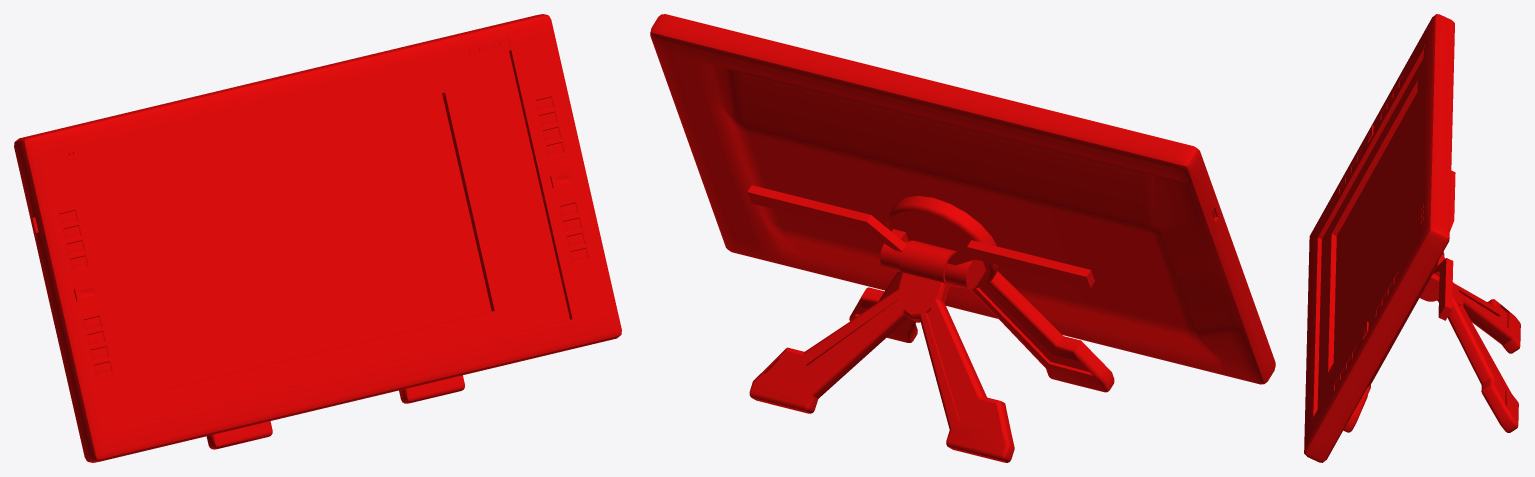
File: Wacom_Full_FBX.fbx
3 views of the same model, side by side, from view 1: azimuth 30°, elevation 25°; view 2: azimuth 150°, elevation 25°; view 3: azimuth 270°, elevation 25° (orthographic). The views are drawn at different scales.
Parts seen in each view (by area): view 1: Wacom16; view 2: Wacom16; view 3: Wacom16.
Part boxes in pixels (x1,y1,x2,y2): Wacom16: (14, 14, 621, 462); Wacom16: (650, 14, 1275, 462); Wacom16: (1304, 14, 1520, 462).
Size of the model in its own units: 475 by 264 by 198.
